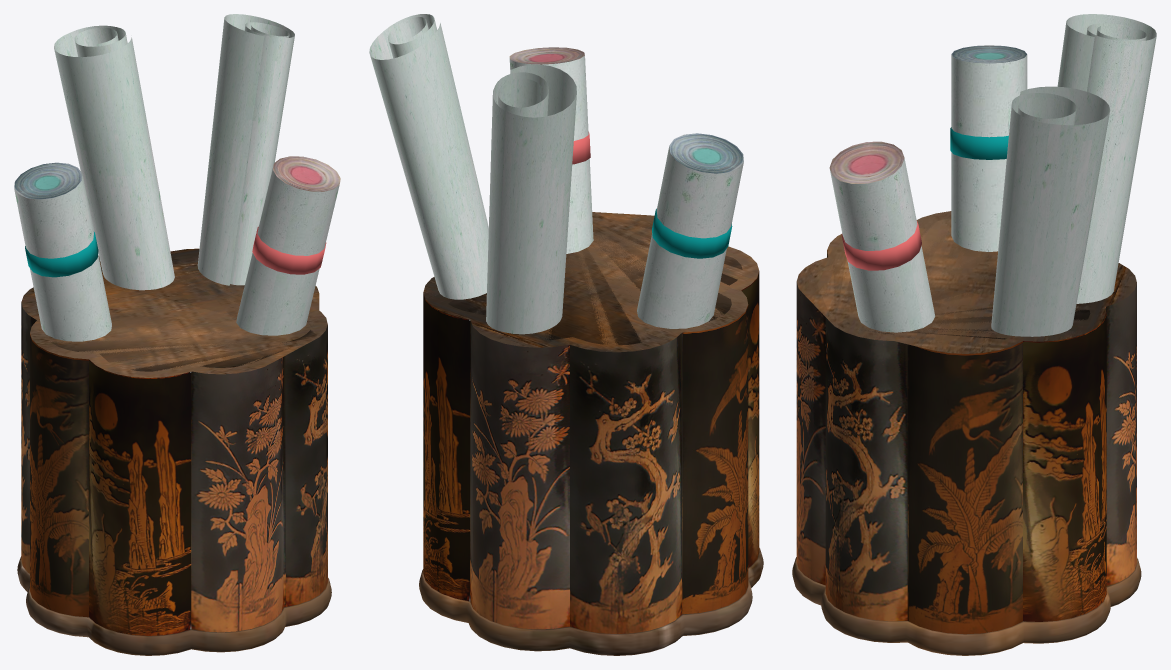
Rendered from paintbrush_02.FBX.
3 renders of one model, left to right at view 1: azimuth 30°, elevation 25°; view 2: azimuth 150°, elevation 25°; view 3: azimuth 270°, elevation 25°, orthographic. The views are drawn at different scales.
Parts seen in each view (by area): view 1: paintbrush_02; view 2: paintbrush_02; view 3: paintbrush_02.
Boxes of the visible parts, x1,y1,x2,y2 form: paintbrush_02: [14, 14, 340, 655]; paintbrush_02: [369, 14, 763, 655]; paintbrush_02: [792, 14, 1156, 655].
Size of the model in its own units: 2.14 by 3.51 by 2.09.
